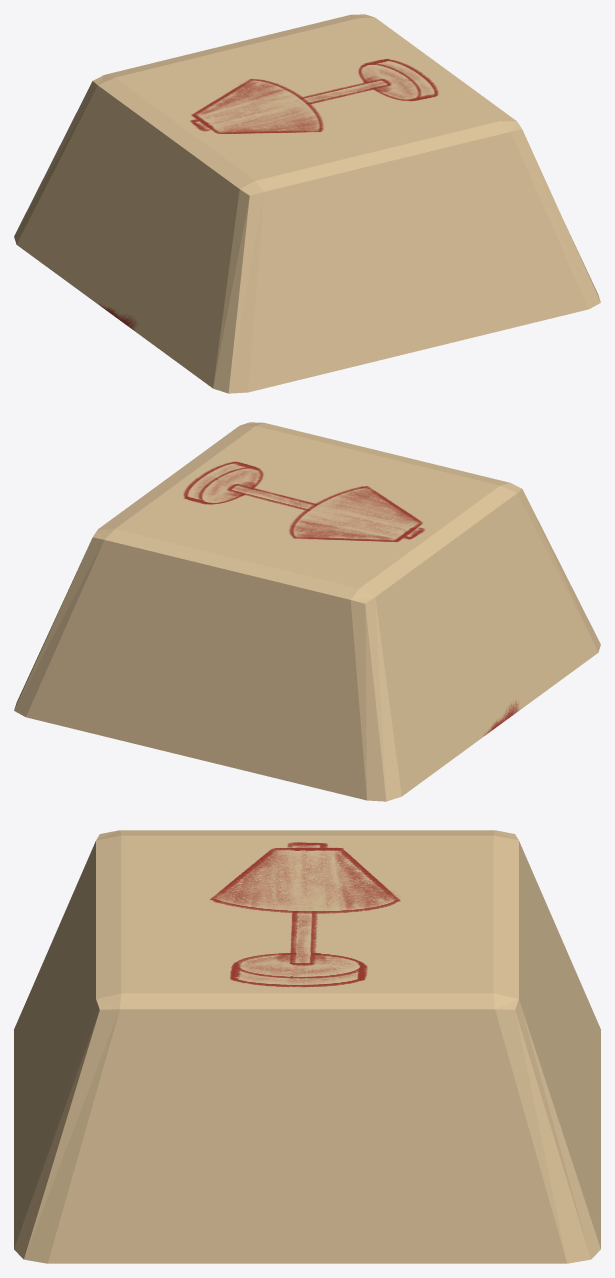
File: botonLampara.fbx
3 renders of one model, top to bottom at view 1: azimuth 30°, elevation 25°; view 2: azimuth 150°, elevation 25°; view 3: azimuth 270°, elevation 25°, orthographic. The views are drawn at different scales.
Parts seen in each view (by area): view 1: bttn0; view 2: bttn0; view 3: bttn0.
Boxes of the visible parts, left/top/right/bottom form: bttn0: left=14, top=14, right=600, bottom=393; bttn0: left=14, top=422, right=600, bottom=801; bttn0: left=14, top=830, right=600, bottom=1263.
Bounding box in the file's own units: 1.8 × 0.7587 × 1.79.
